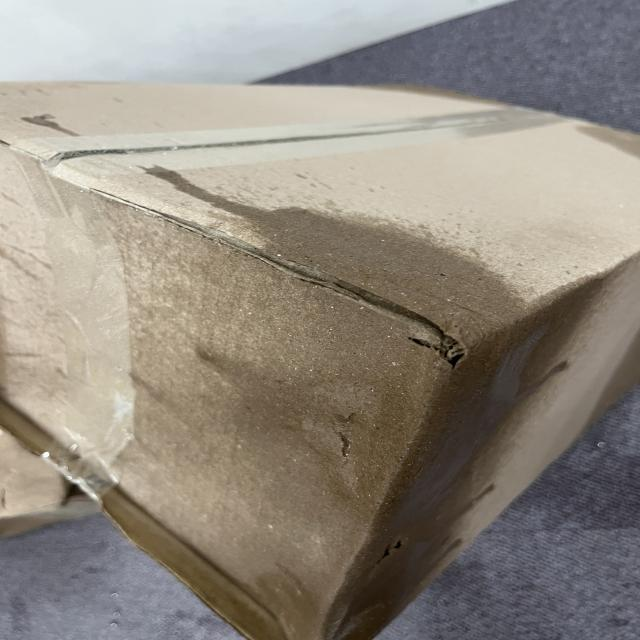wet: (74, 154, 606, 640)
